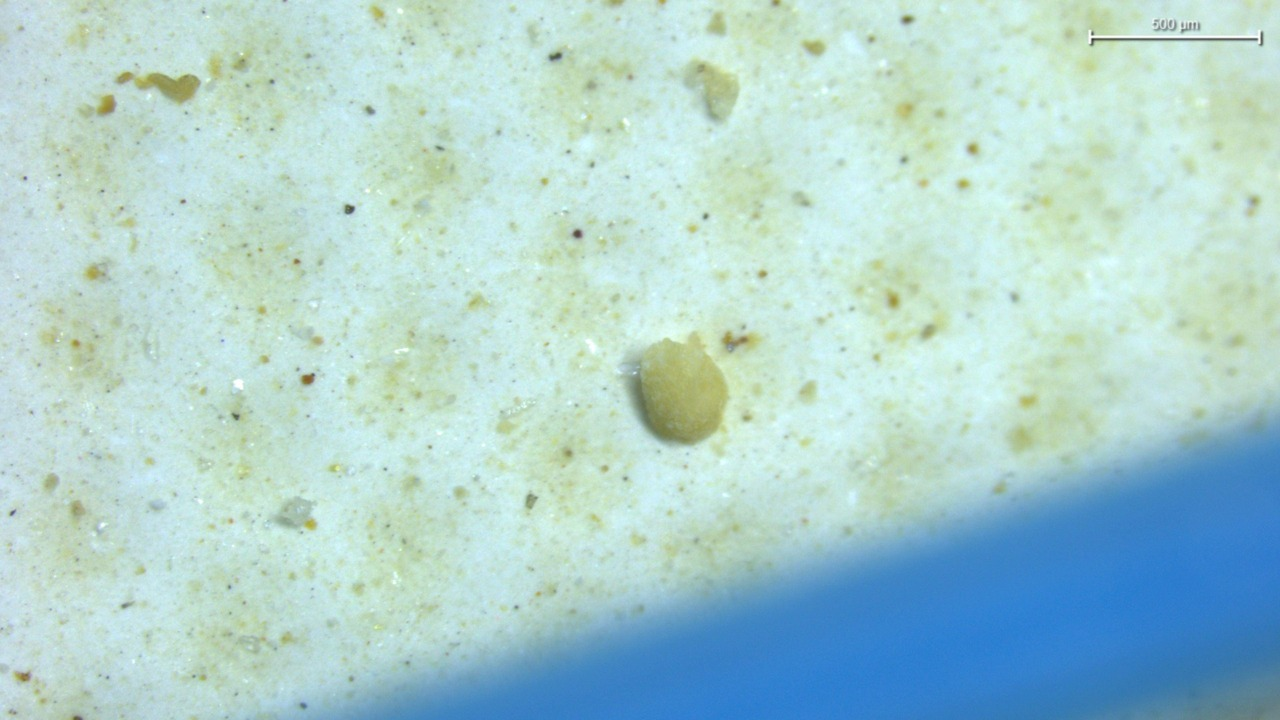microplastic_fragment: (640, 333, 727, 443)
